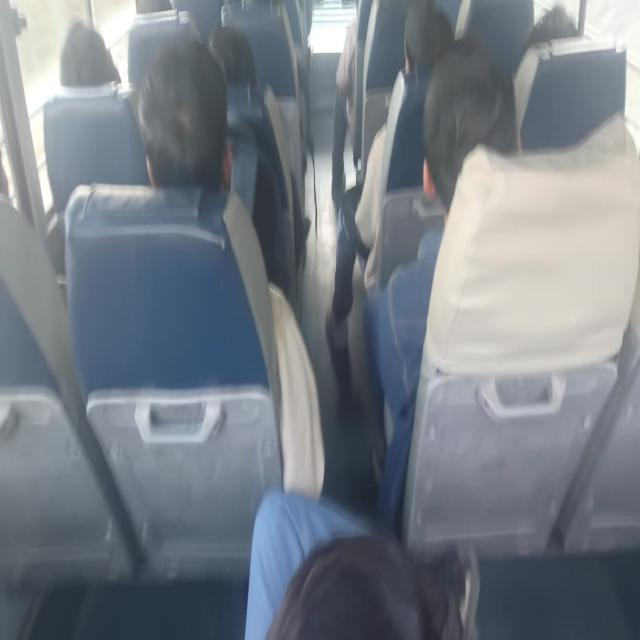person: (251, 528, 464, 640), (432, 54, 516, 220), (143, 54, 231, 200), (60, 18, 118, 89), (526, 0, 588, 65), (405, 0, 457, 77), (199, 25, 255, 83)
